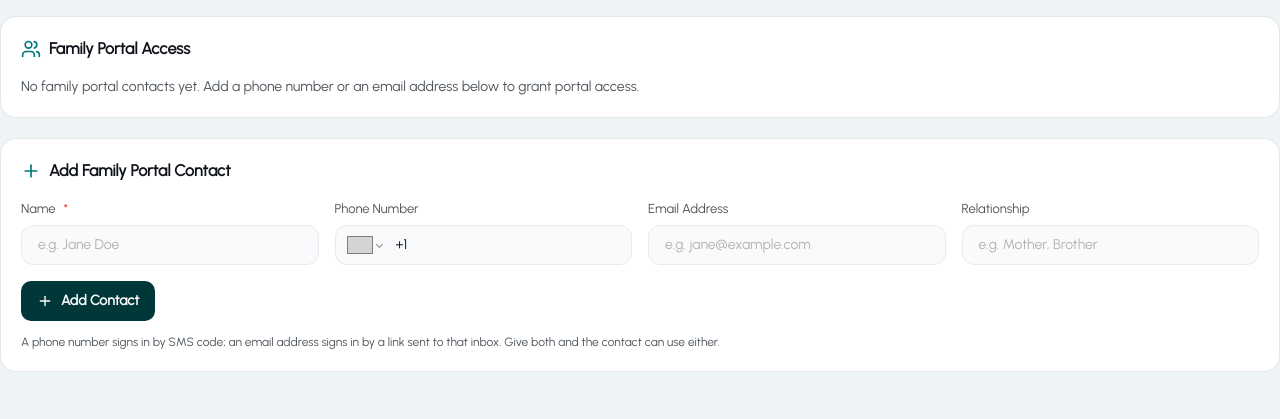
Test case: FamilyPortalTab › refuses a contact with neither a phone nor an email
Type "Jane Doe" into the field with placeholder "e.g. Jane Doe". click: coordinates (170, 244)
box: x1=21 y1=224 x2=318 y2=264
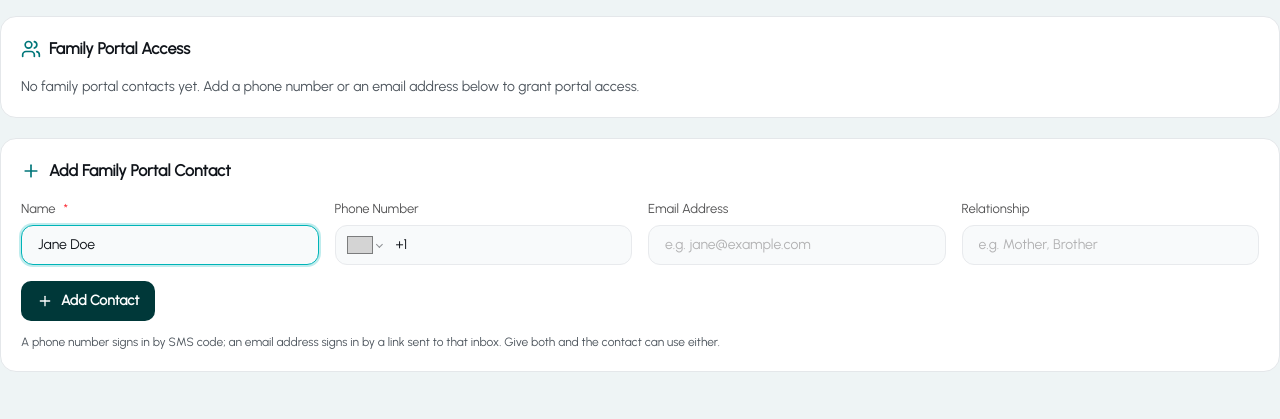
Click the button "Add Contact". click: coordinates (88, 300)
box: x1=21 y1=280 x2=155 y2=320
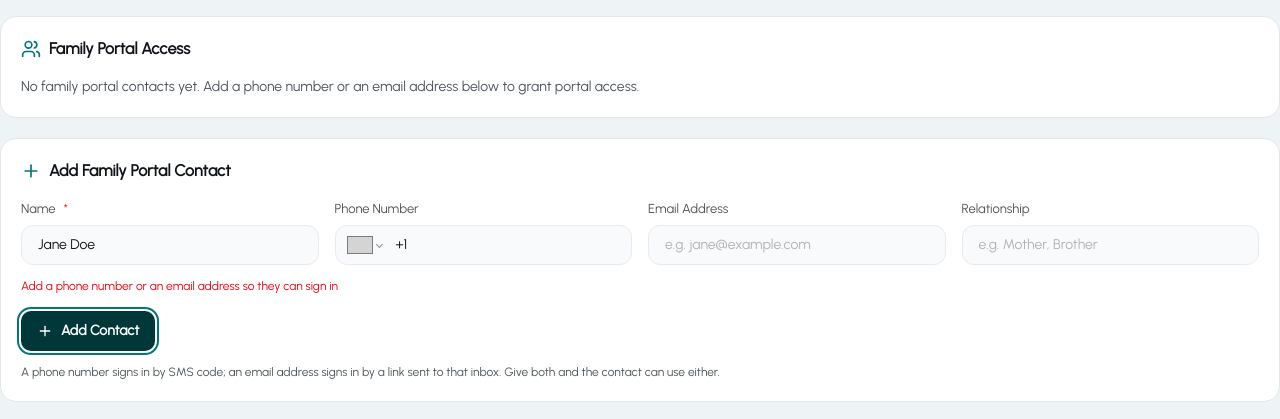
Check: the text "Add a phone number or an email address so they can sign in" is shown, box x1=21 y1=278 x2=338 y2=292
